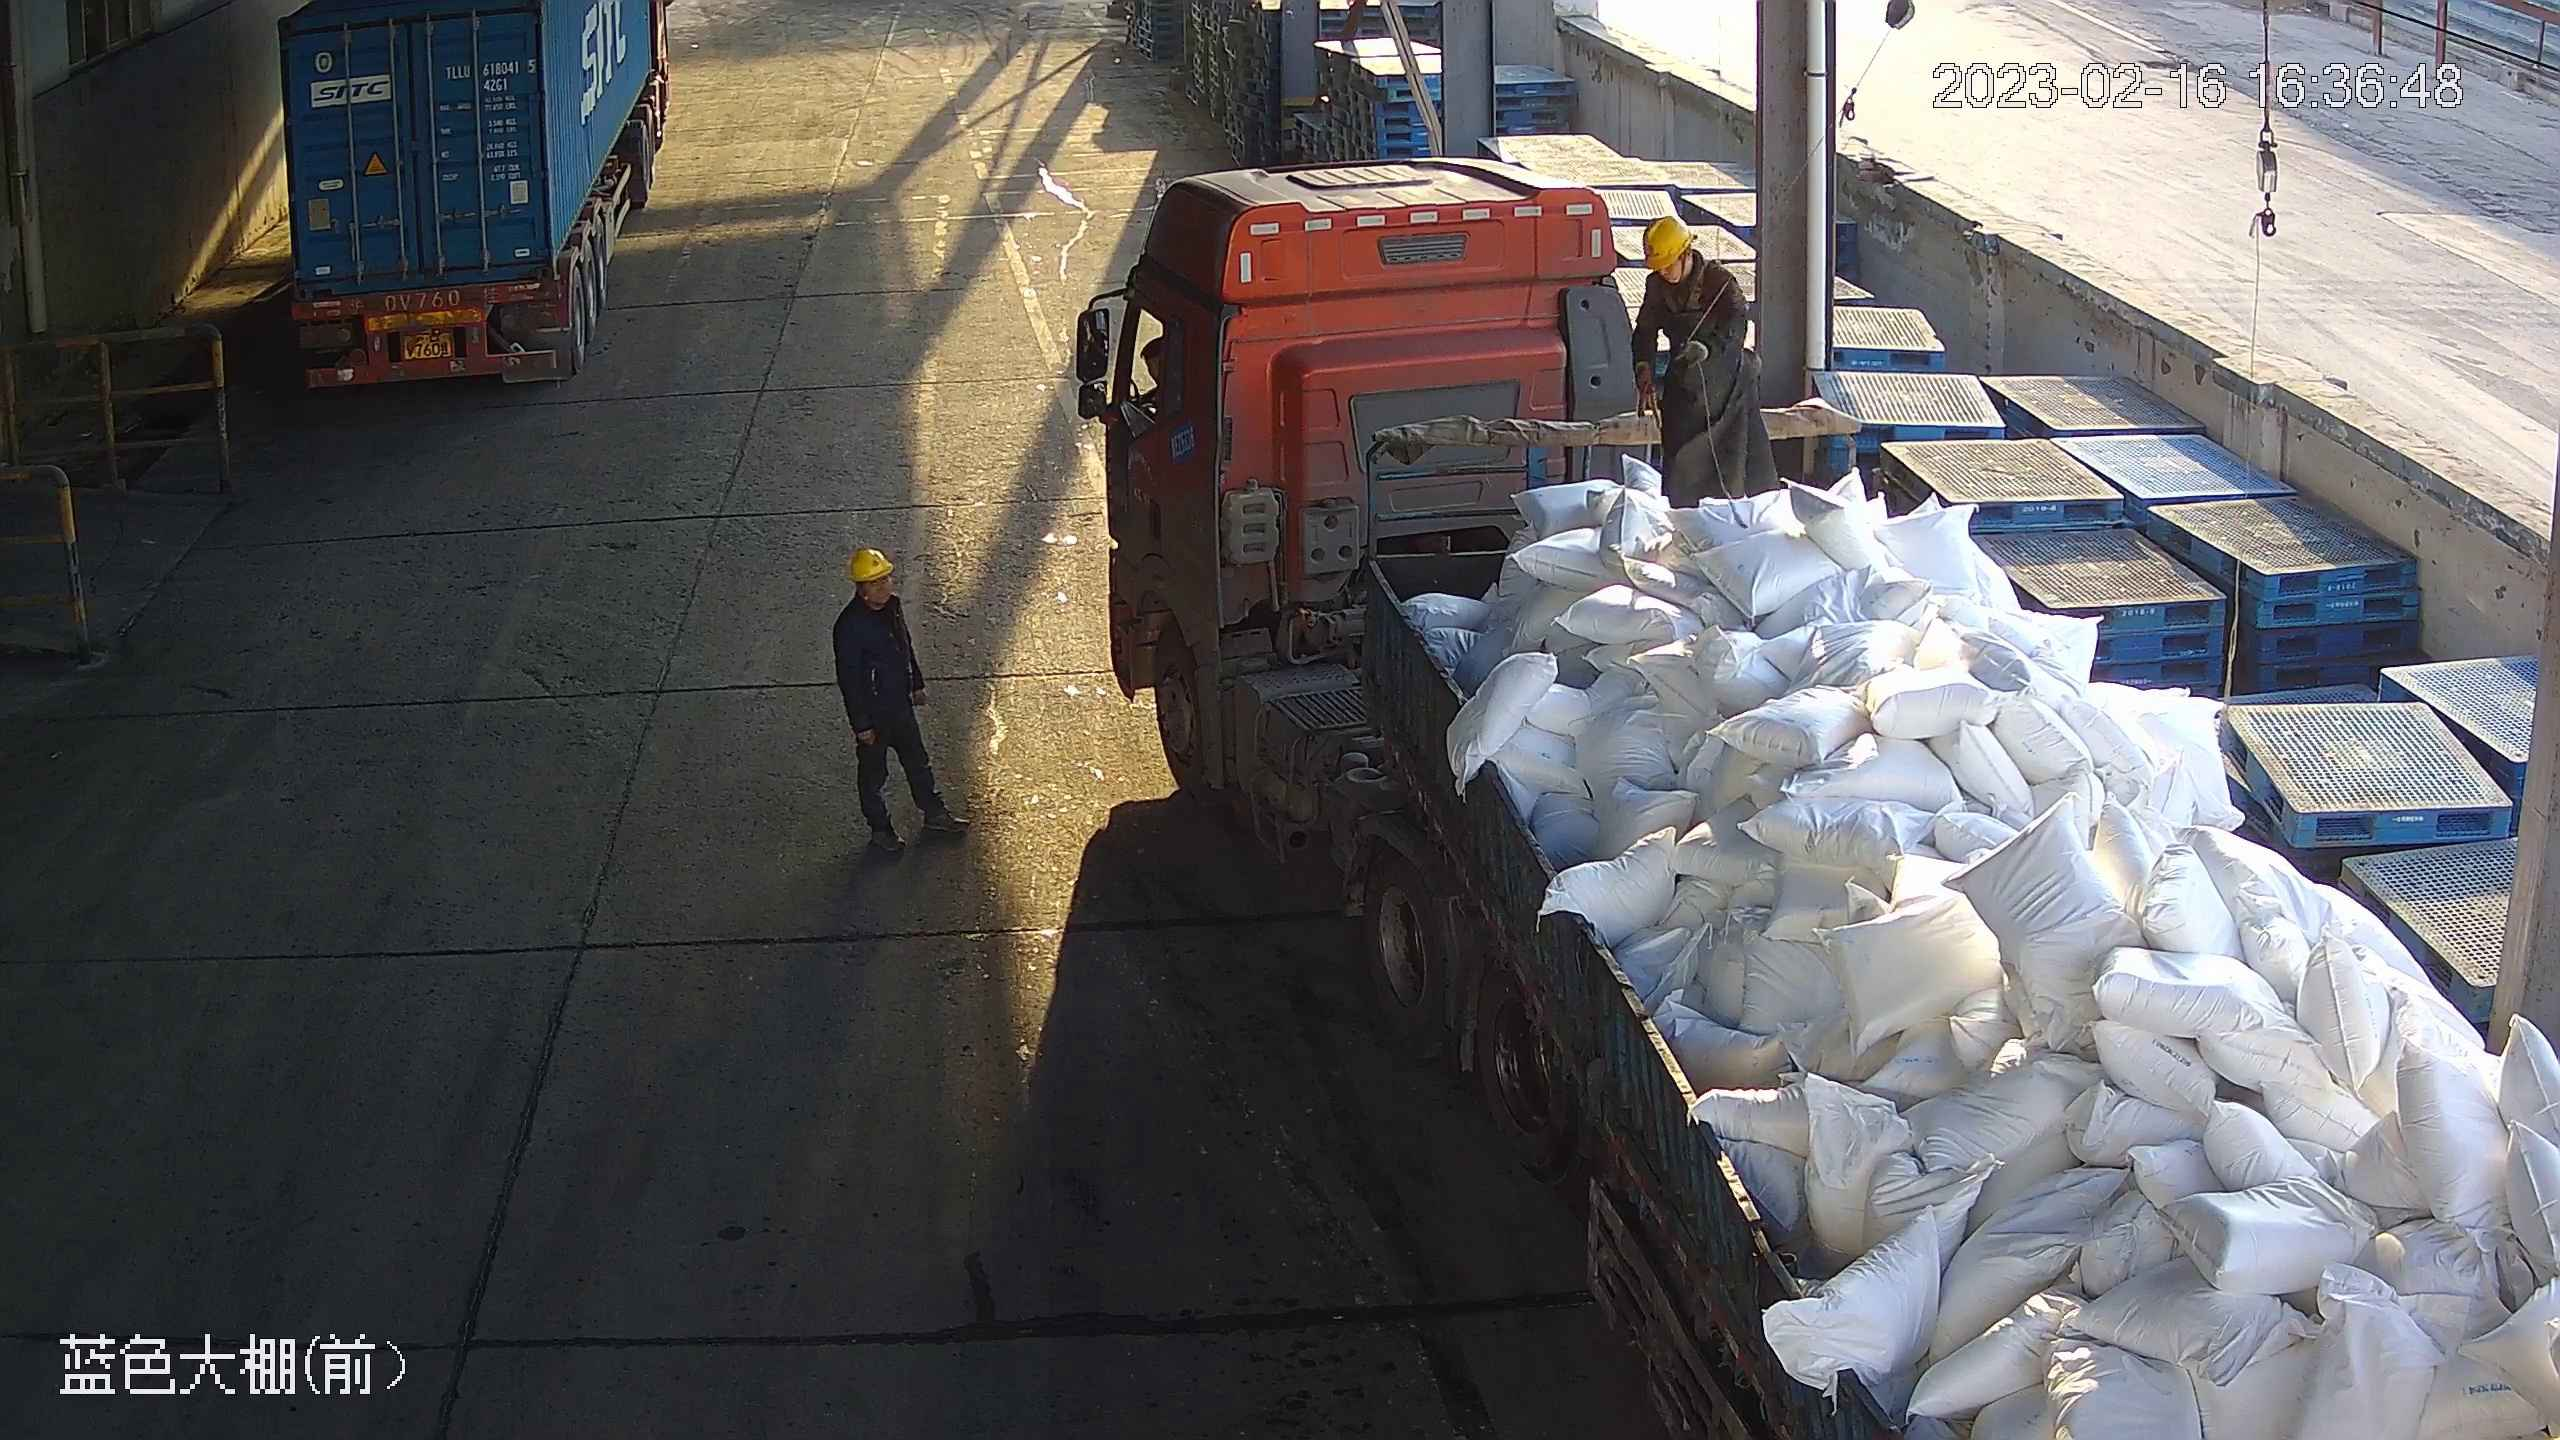belt: (1650, 252, 1744, 322)
head: (1628, 215, 1745, 297), (826, 548, 913, 637)
helmet: (1639, 215, 1695, 270), (849, 547, 895, 582)
people: (825, 548, 975, 854), (1629, 216, 1784, 512)
truck: (1100, 159, 2560, 1440), (271, 2, 689, 391)
